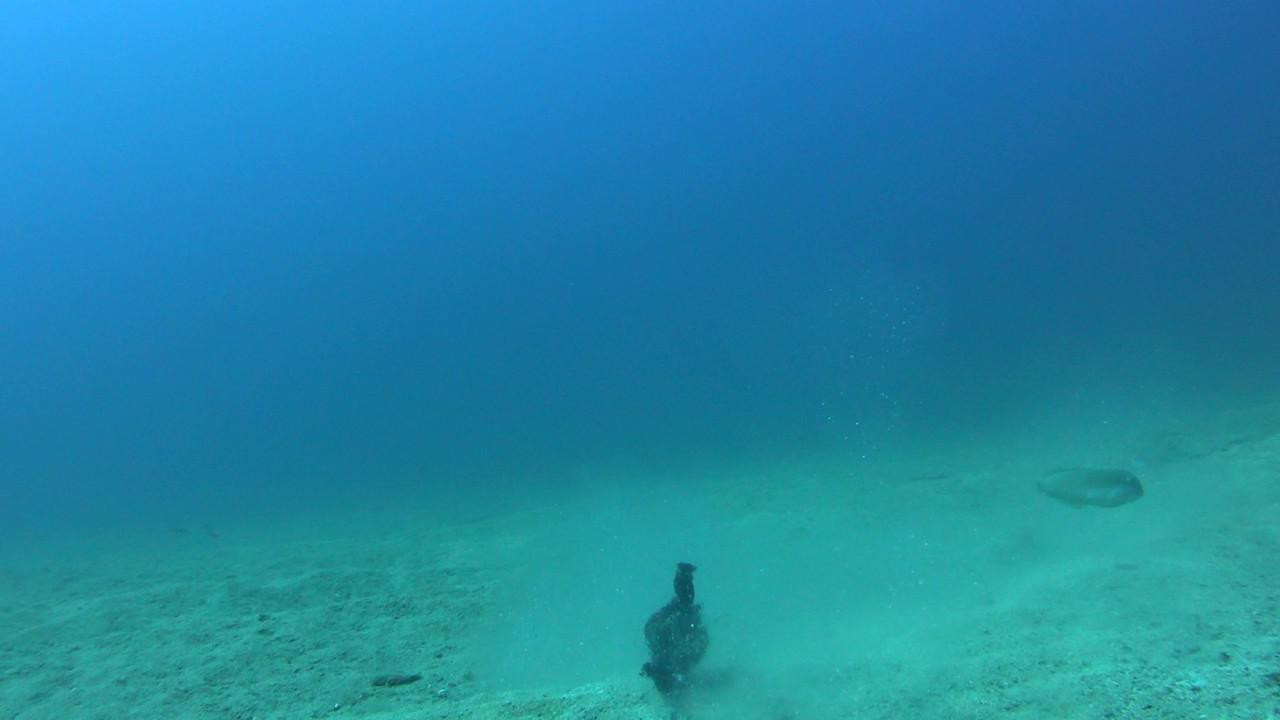myliobatis: (149, 507, 267, 568)
raor: (1027, 467, 1150, 511)
